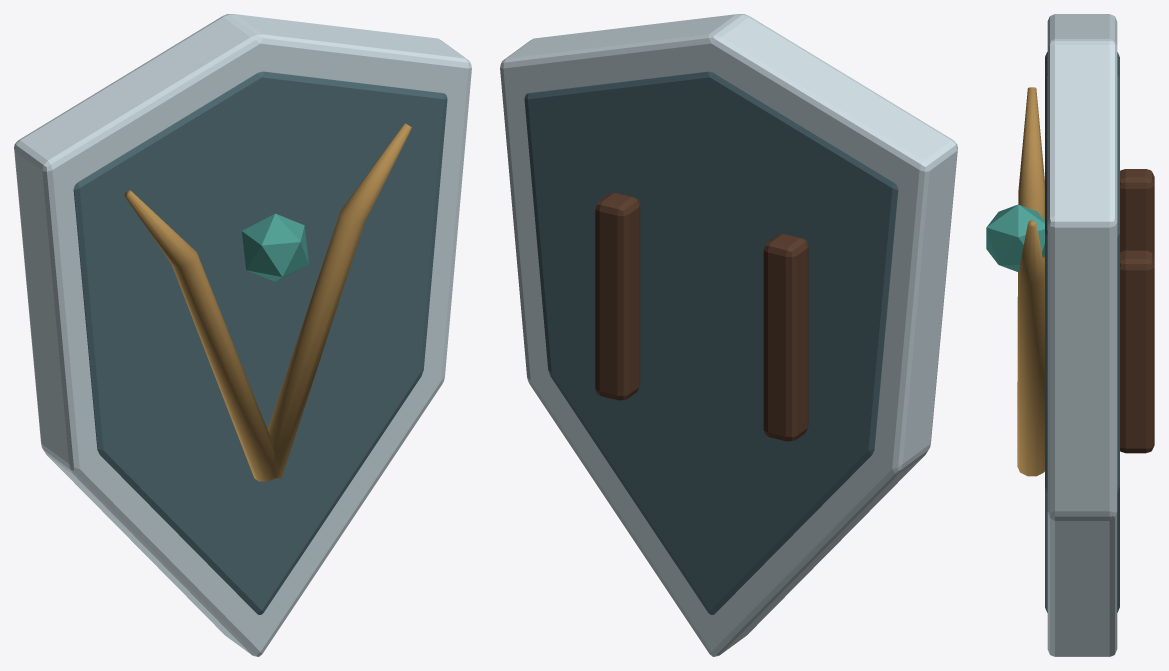
Rendered from ValkyrieShield.glb.
3 views of the same model, side by side, from view 1: azimuth 30°, elevation 25°; view 2: azimuth 150°, elevation 25°; view 3: azimuth 270°, elevation 25° (orthographic).
Parts seen in each view (by area): view 1: Model.009; view 2: Model.009; view 3: Model.009.
Part boxes in pixels (<box>): Model.009: <box>14,14,471,656</box>; Model.009: <box>500,14,957,656</box>; Model.009: <box>986,14,1154,656</box>.
Size of the model in its own units: 0.4587 by 0.6355 by 0.1573.
